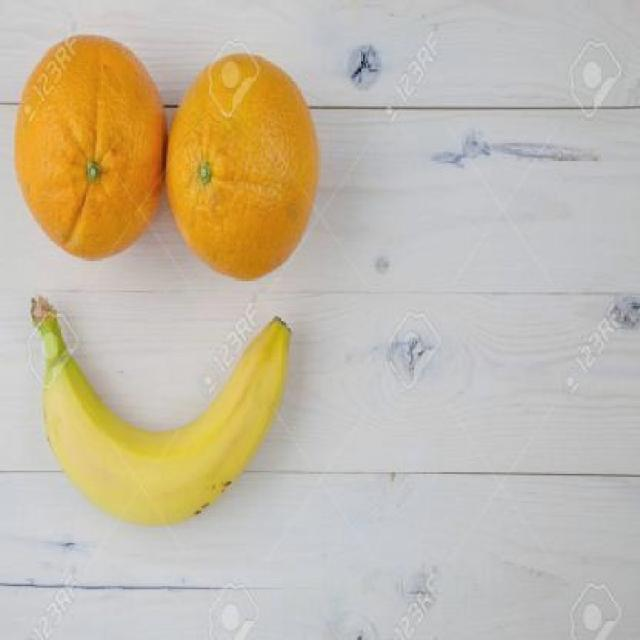Jeruk Sudah Matang: (15, 35, 166, 262), (172, 53, 320, 279)
